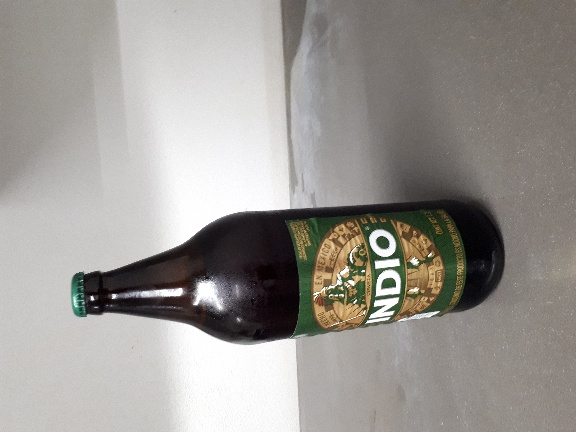IB: (49, 144, 368, 252)
